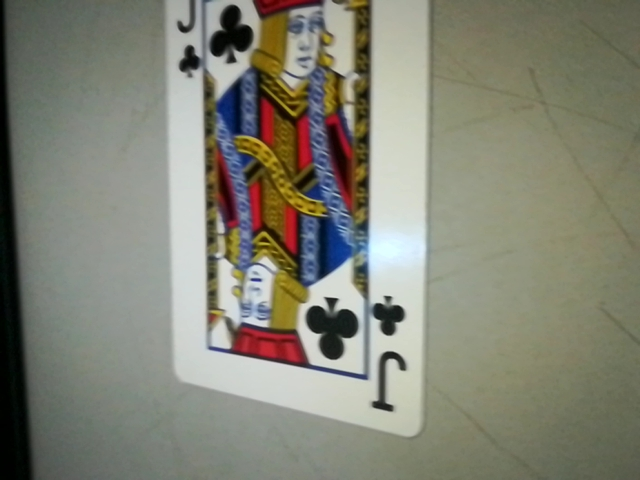mh j: (361, 290, 419, 424)
